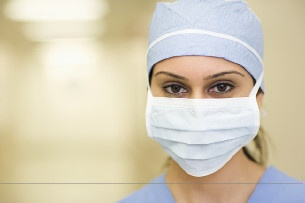Mask: (144, 62, 259, 177)
